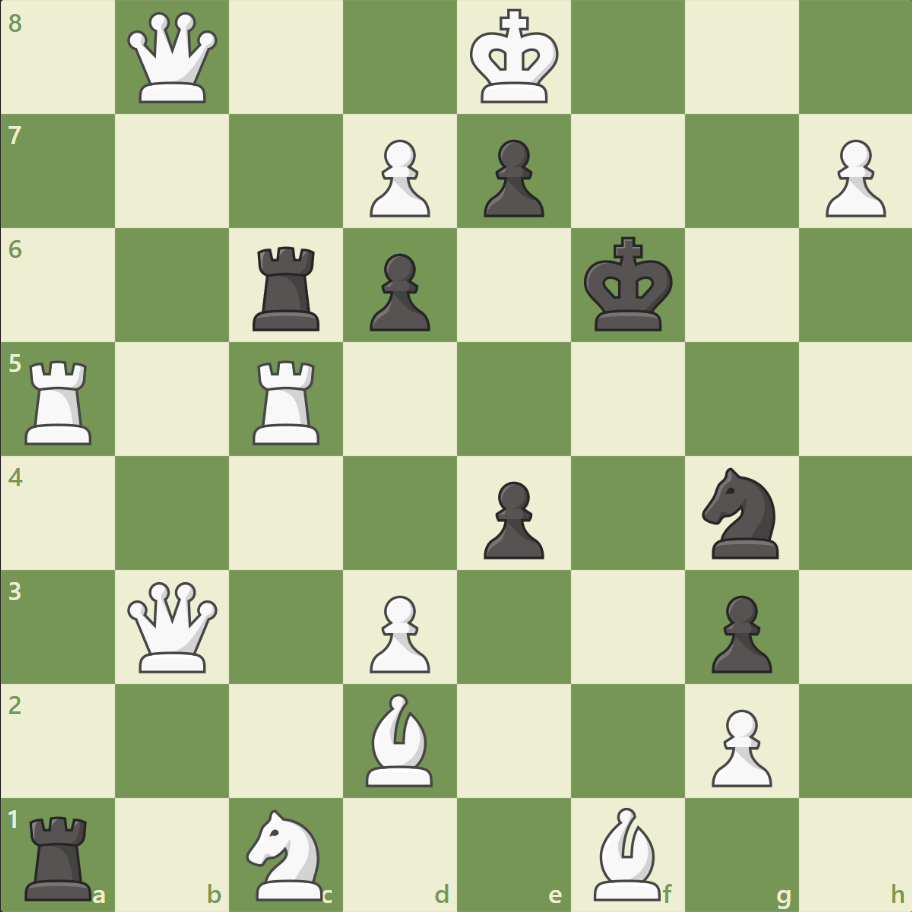B: (358, 687, 442, 790), (585, 801, 669, 904)
K: (465, 4, 565, 112)
N: (238, 802, 335, 904)
P: (701, 700, 776, 791), (361, 132, 435, 223), (815, 132, 889, 223), (361, 586, 435, 677)
Q: (124, 576, 223, 676), (124, 9, 223, 108)
R: (19, 352, 102, 449), (246, 352, 329, 449)
k: (579, 231, 679, 339)
n: (692, 461, 789, 564)
p: (474, 132, 549, 223), (474, 473, 549, 564), (701, 586, 776, 677), (361, 246, 435, 337)
r: (19, 806, 102, 904), (246, 239, 329, 336)
